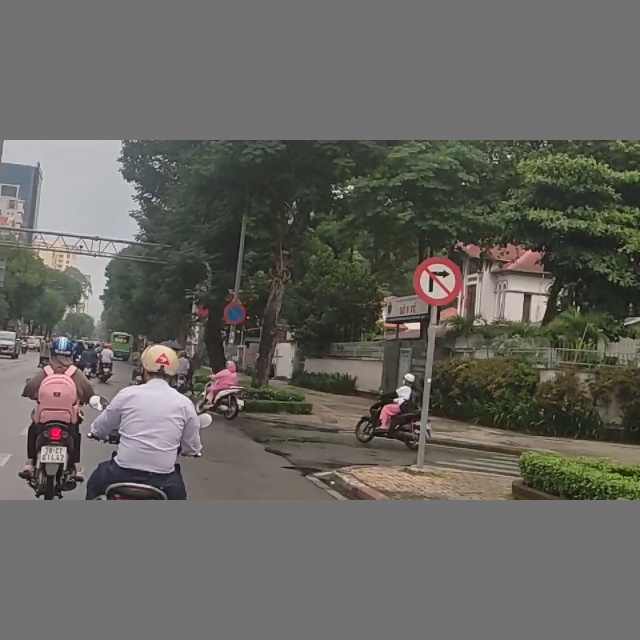P.123b: (412, 258, 462, 303)
P.131a: (223, 301, 247, 325)
